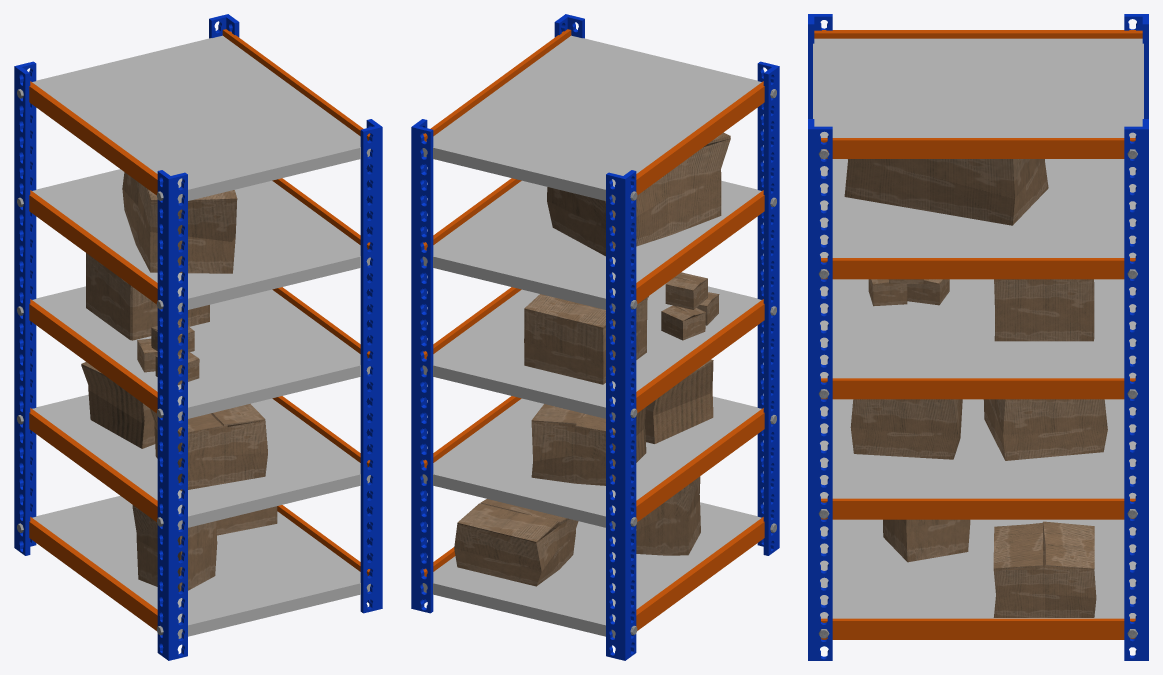
The model's file is estante_garagem.glb.
3 views of the same model, side by side, from view 1: azimuth 30°, elevation 25°; view 2: azimuth 150°, elevation 25°; view 3: azimuth 270°, elevation 25° (orthographic). The views are drawn at different scales.
Visible parts, largest first — view 1: Cube.001_0, Cube.002_15, Cube_14, Cube.003_16, Cube.010_10, Cube.007_7, Cube.005_5, Cube.009_9, Cube.006_6, Cube.008_8, Cube.011_11, Cube.004_17; view 2: Cube.001_0, Cube.003_16, Cube.004_17, Cube.002_15, Cube.010_10, Cube.008_8, Cube.005_5, Cube.006_6, Cube.009_9, Cube.007_7, Cube.013_13, Cube.011_11 (+1 smaller); view 3: Cube.001_0, Cube.004_17, Cube_14, Cube.010_10, Cube.008_8, Cube.006_6, Cube.007_7, Cube.005_5, Cube.009_9, Cube.012_12, Cube.011_11, Cube.002_15 (+1 smaller).
Boxes of the visible parts, x1,y1,x2,y2 form: Cube.001_0: [29, 29, 370, 638]; Cube.002_15: [157, 170, 187, 660]; Cube_14: [360, 119, 382, 613]; Cube.003_16: [14, 61, 36, 555]; Cube.010_10: [122, 172, 237, 273]; Cube.007_7: [149, 403, 267, 491]; Cube.005_5: [86, 253, 209, 340]; Cube.009_9: [132, 505, 217, 591]; Cube.006_6: [81, 362, 155, 448]; Cube.008_8: [216, 506, 277, 535]; Cube.011_11: [137, 338, 157, 372]; Cube.004_17: [209, 14, 239, 38]; Cube.001_0: [422, 29, 764, 638]; Cube.003_16: [606, 170, 636, 660]; Cube.004_17: [411, 119, 433, 613]; Cube.002_15: [757, 61, 779, 555]; Cube.010_10: [547, 132, 730, 256]; Cube.008_8: [454, 499, 578, 586]; Cube.005_5: [524, 294, 648, 384]; Cube.006_6: [531, 404, 646, 485]; Cube.009_9: [636, 476, 700, 555]; Cube.007_7: [645, 359, 713, 443]; Cube.013_13: [665, 272, 707, 309]; Cube.011_11: [661, 305, 705, 340]; Cube.001_0: [813, 30, 1143, 639]; Cube.004_17: [1124, 119, 1148, 660]; Cube_14: [808, 119, 832, 660]; Cube.010_10: [844, 159, 1048, 225]; Cube.008_8: [993, 521, 1096, 617]; Cube.006_6: [983, 399, 1107, 460]; Cube.007_7: [850, 399, 962, 459]; Cube.005_5: [994, 279, 1094, 341]; Cube.009_9: [883, 519, 970, 562]; Cube.012_12: [868, 279, 907, 306]; Cube.011_11: [907, 279, 949, 305]; Cube.002_15: [808, 14, 832, 118].
Bounding box in the file's own units: 2.15 × 4.51 × 2.62.
16 materials, 13 textured.
